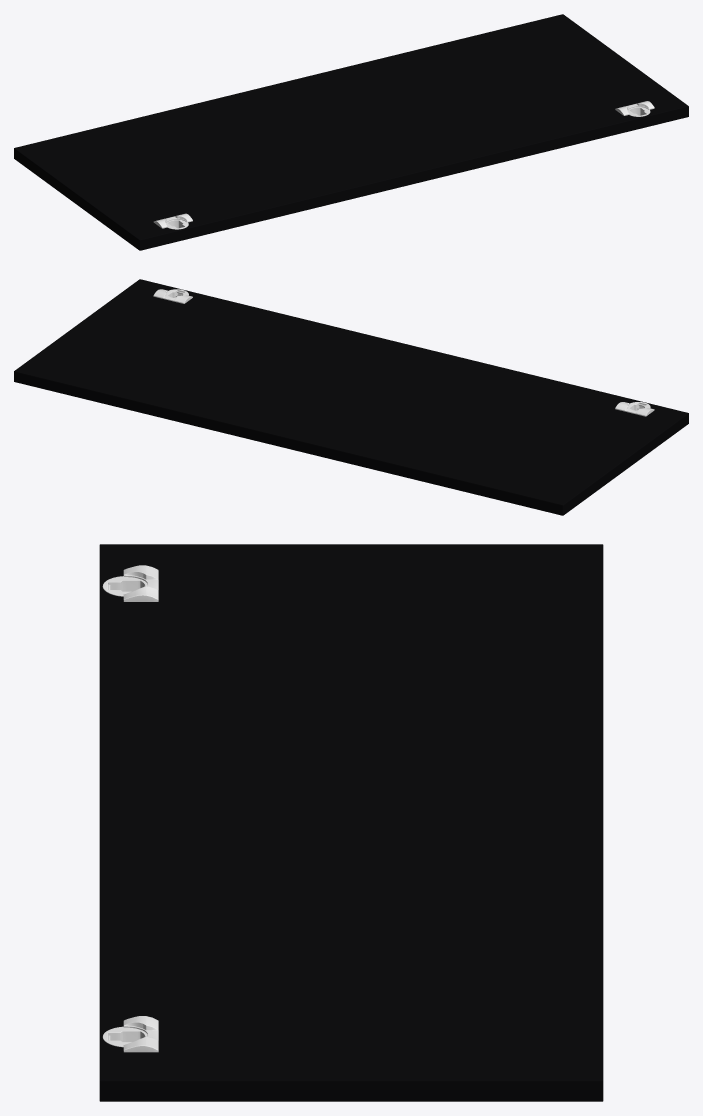
The model's file is SM_Kitchen_04_Door_01.obj.
The picture shows the model from 3 angles, top to bottom: view 1: azimuth 30°, elevation 25°; view 2: azimuth 150°, elevation 25°; view 3: azimuth 270°, elevation 25°; orthographic projection. The views are drawn at different scales.
Parts seen in each view (by area): view 1: SM_Kitchen_04_Door_01; view 2: SM_Kitchen_04_Door_01; view 3: SM_Kitchen_04_Door_01.
Boxes of the visible parts, box(x1,y1,x2,y2) form: SM_Kitchen_04_Door_01: box(14, 14, 688, 250); SM_Kitchen_04_Door_01: box(14, 279, 688, 515); SM_Kitchen_04_Door_01: box(99, 544, 603, 1101).
Size of the model in its own units: 0.9969 by 0.0248 by 0.396.
2 materials, 1 textured.
